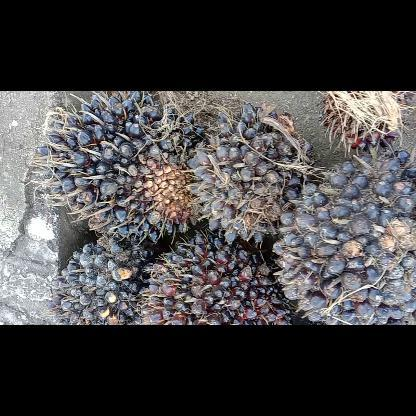TBS mentah: (32, 92, 216, 246), (269, 148, 415, 324), (185, 99, 315, 247), (140, 230, 294, 324), (44, 230, 166, 324)
